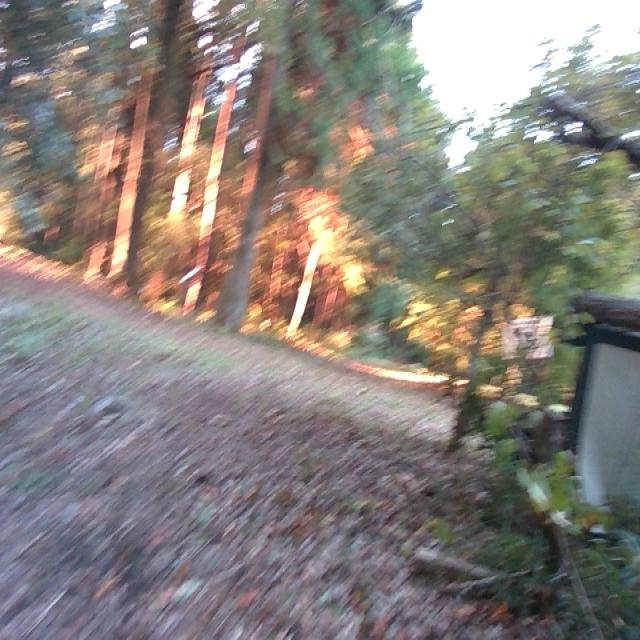artifact: (558, 287, 640, 558)
tree: (206, 0, 317, 335)
